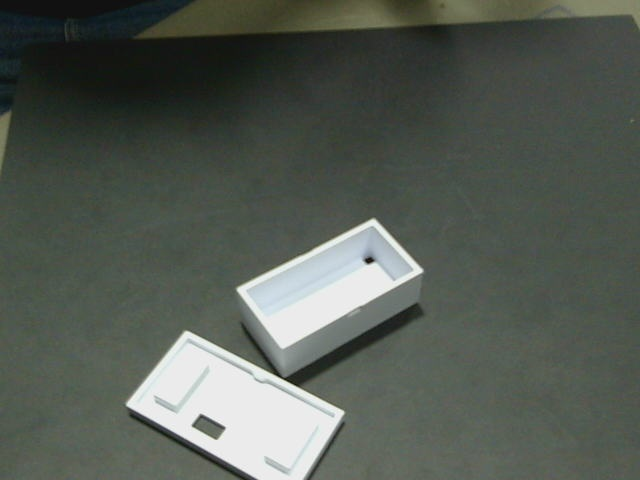enclosure_good: (128, 332, 343, 480), (238, 220, 422, 349)
